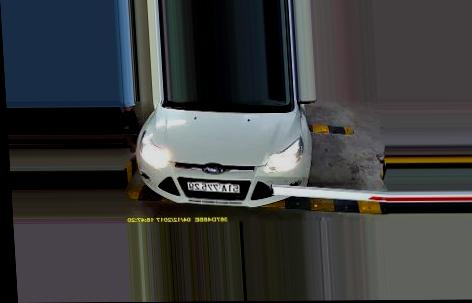License_Plate: (187, 182, 240, 194)
